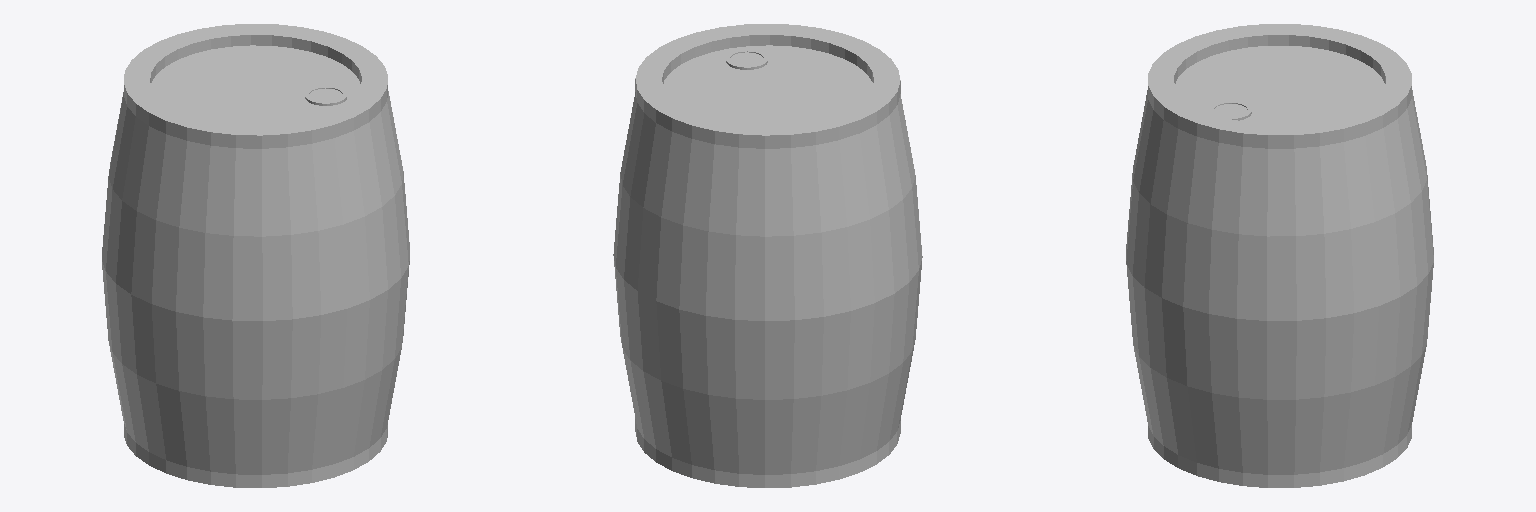
The model's file is woodbarrelz-.obj.
3 views of the same model, side by side, from view 1: azimuth 30°, elevation 25°; view 2: azimuth 150°, elevation 25°; view 3: azimuth 270°, elevation 25° (orthographic).
Visible parts, largest first — view 1: Cylinder; view 2: Cylinder; view 3: Cylinder.
Part boxes in pixels (bbox=[...]): Cylinder: bbox=[102, 24, 409, 487]; Cylinder: bbox=[613, 24, 922, 487]; Cylinder: bbox=[1126, 24, 1433, 487].
Bounding box in the file's own units: 0.7916 × 1 × 0.7916.